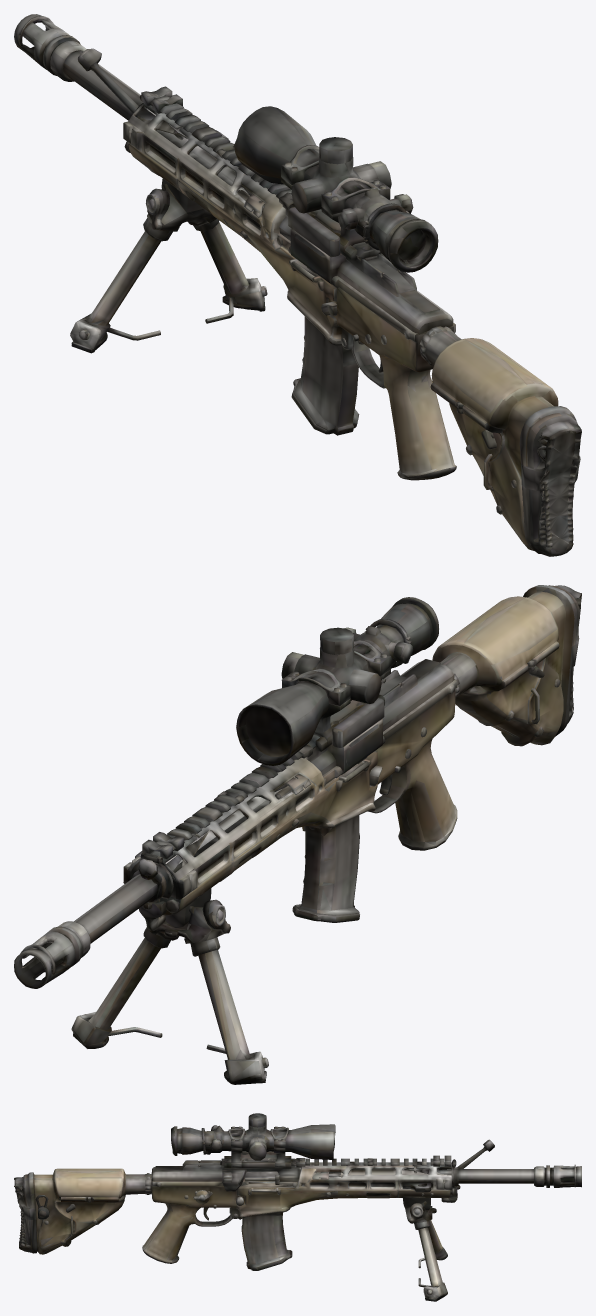
The model's file is inf_sniper.glb.
The picture shows the model from 3 angles, top to bottom: view 1: azimuth 30°, elevation 25°; view 2: azimuth 150°, elevation 25°; view 3: azimuth 270°, elevation 25°; orthographic projection. The views are drawn at different scales.
Parts seen in each view (by area): view 1: tripo_node_7f1ab6c7-aee9-45cc-b00e-f9ba8a9f6af8; view 2: tripo_node_7f1ab6c7-aee9-45cc-b00e-f9ba8a9f6af8; view 3: tripo_node_7f1ab6c7-aee9-45cc-b00e-f9ba8a9f6af8.
Boxes of the visible parts, bbox=[...] form: tripo_node_7f1ab6c7-aee9-45cc-b00e-f9ba8a9f6af8: bbox=[14, 14, 581, 556]; tripo_node_7f1ab6c7-aee9-45cc-b00e-f9ba8a9f6af8: bbox=[14, 585, 581, 1084]; tripo_node_7f1ab6c7-aee9-45cc-b00e-f9ba8a9f6af8: bbox=[14, 1113, 581, 1301].
Bounding box in the file's own units: 0.2075 × 0.313 × 0.9995.
1 material, 1 textured.
